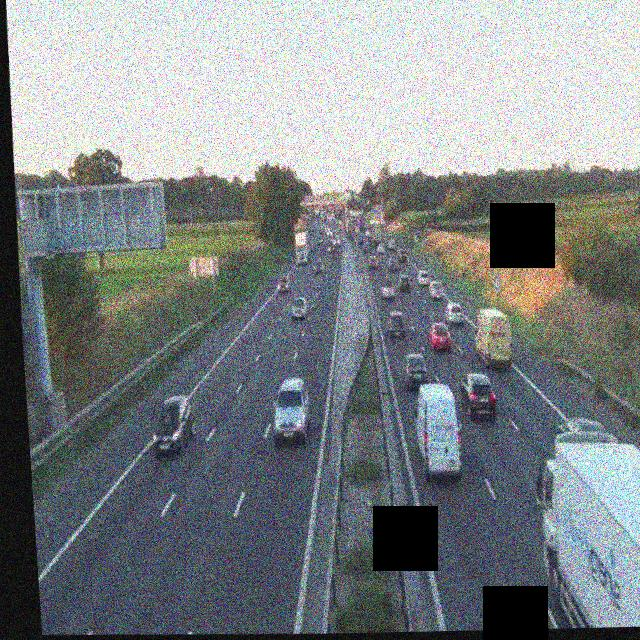car: (413, 380, 464, 479), (270, 377, 313, 445), (150, 394, 197, 456), (460, 370, 499, 420), (402, 353, 429, 390), (427, 321, 453, 352), (387, 311, 407, 337), (444, 301, 465, 325), (290, 296, 308, 320), (381, 282, 397, 303), (430, 280, 445, 301), (420, 277, 434, 298), (398, 271, 411, 290), (275, 275, 289, 292), (415, 267, 428, 282), (368, 254, 379, 269), (314, 257, 325, 272), (387, 255, 397, 269), (327, 240, 336, 252)
truck: (531, 421, 640, 629), (471, 307, 516, 369), (293, 228, 310, 260)
